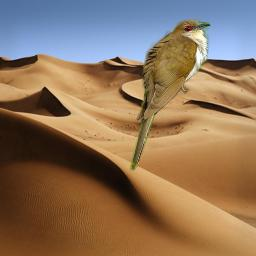Cuckoo: (129, 19, 211, 172)
